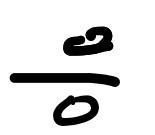div: (9, 26, 120, 125)
